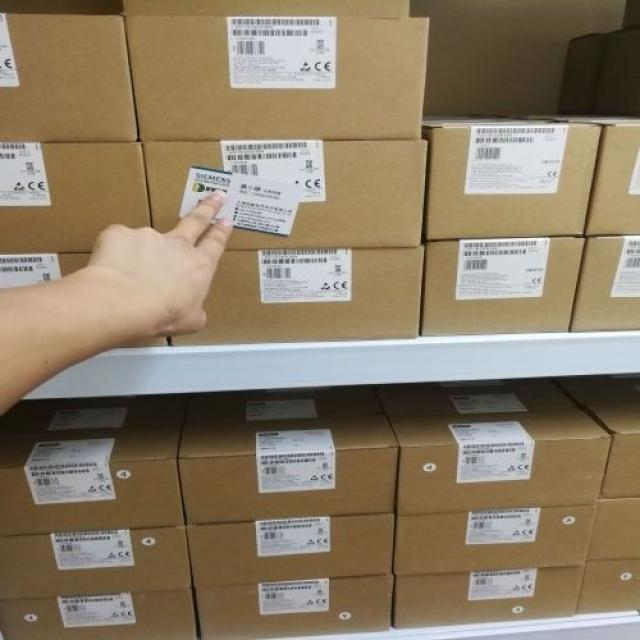Carton: (0, 12, 600, 346), (0, 435, 611, 639), (0, 143, 155, 256)
